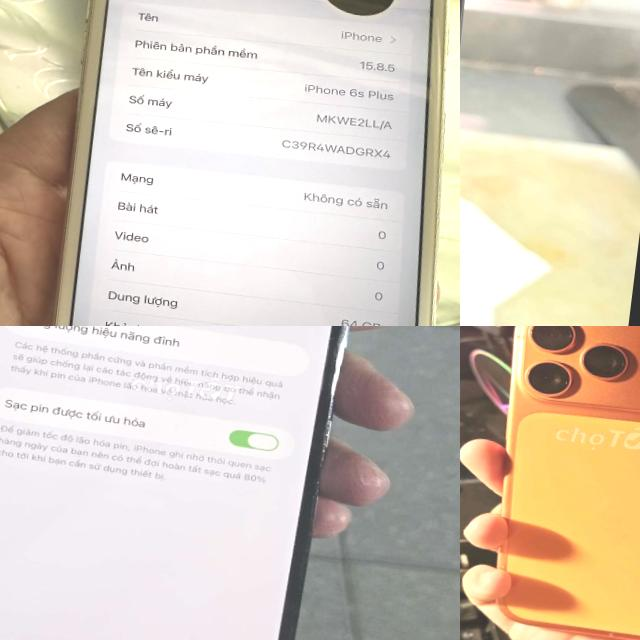gen_12_13: (0, 326, 388, 640)
gen_16: (460, 0, 509, 326)
gen_17: (461, 326, 640, 640)
gen_6: (26, 0, 460, 326)
